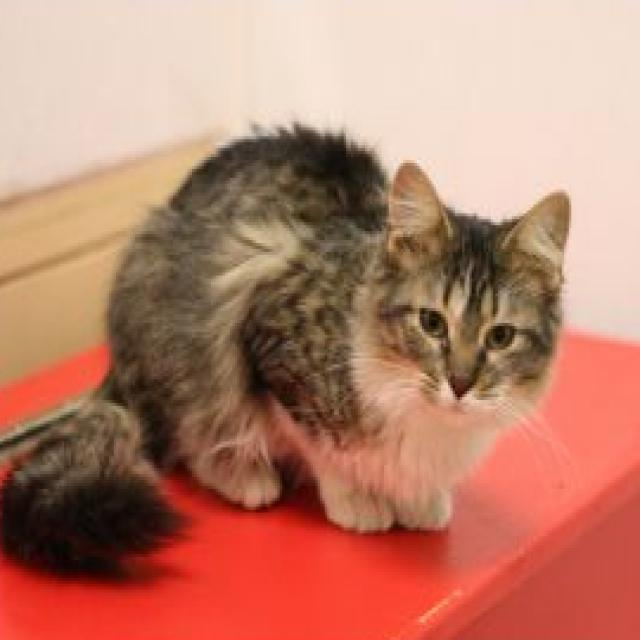Maine Coon: (0, 118, 571, 580)
